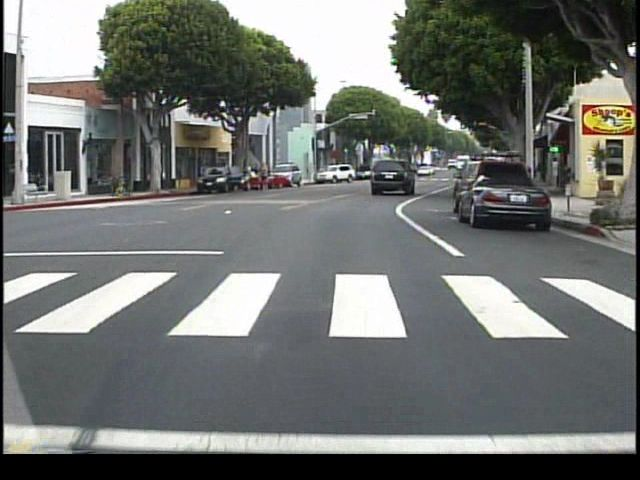car: (452, 174, 555, 233), (369, 156, 413, 194), (195, 161, 236, 193), (317, 161, 356, 183), (234, 168, 262, 189)
striscie pedonali: (5, 268, 634, 341)
